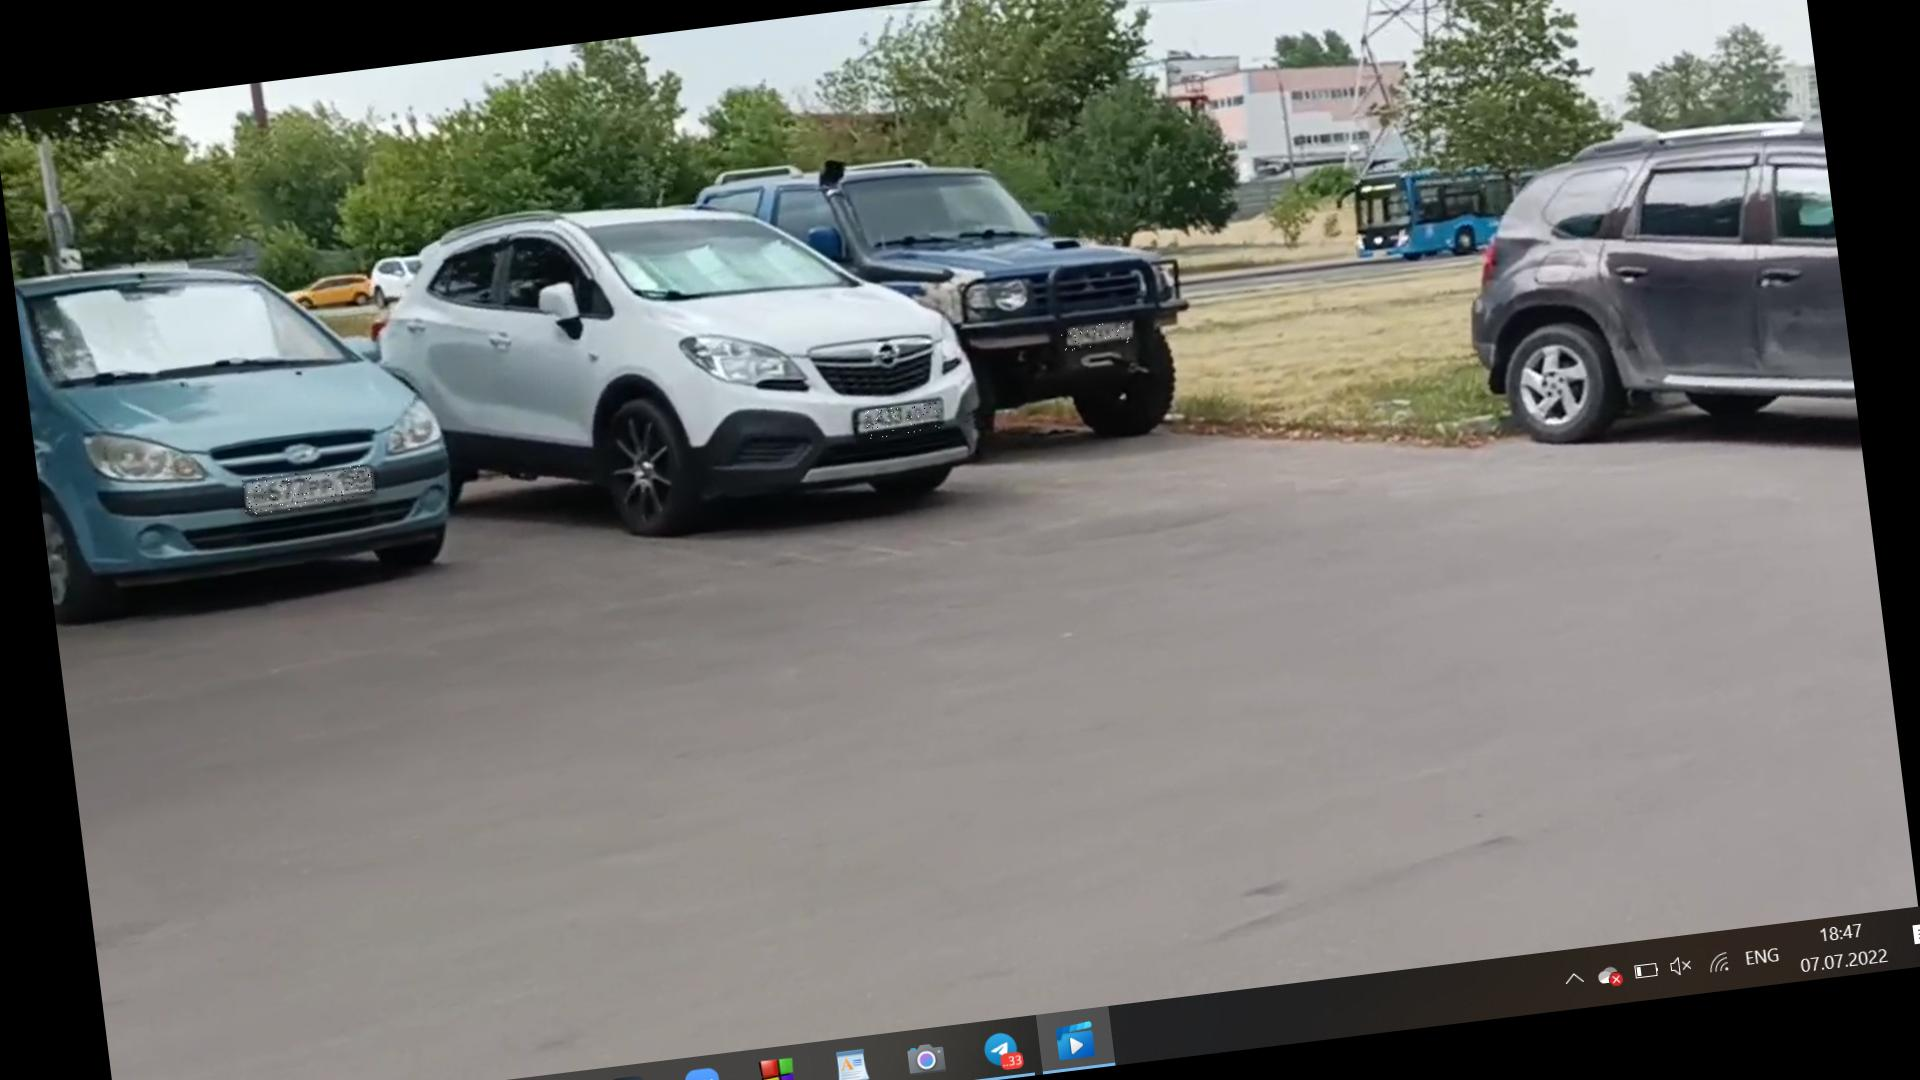plate: (243, 465, 377, 517), (866, 403, 942, 441), (1059, 321, 1133, 354)
